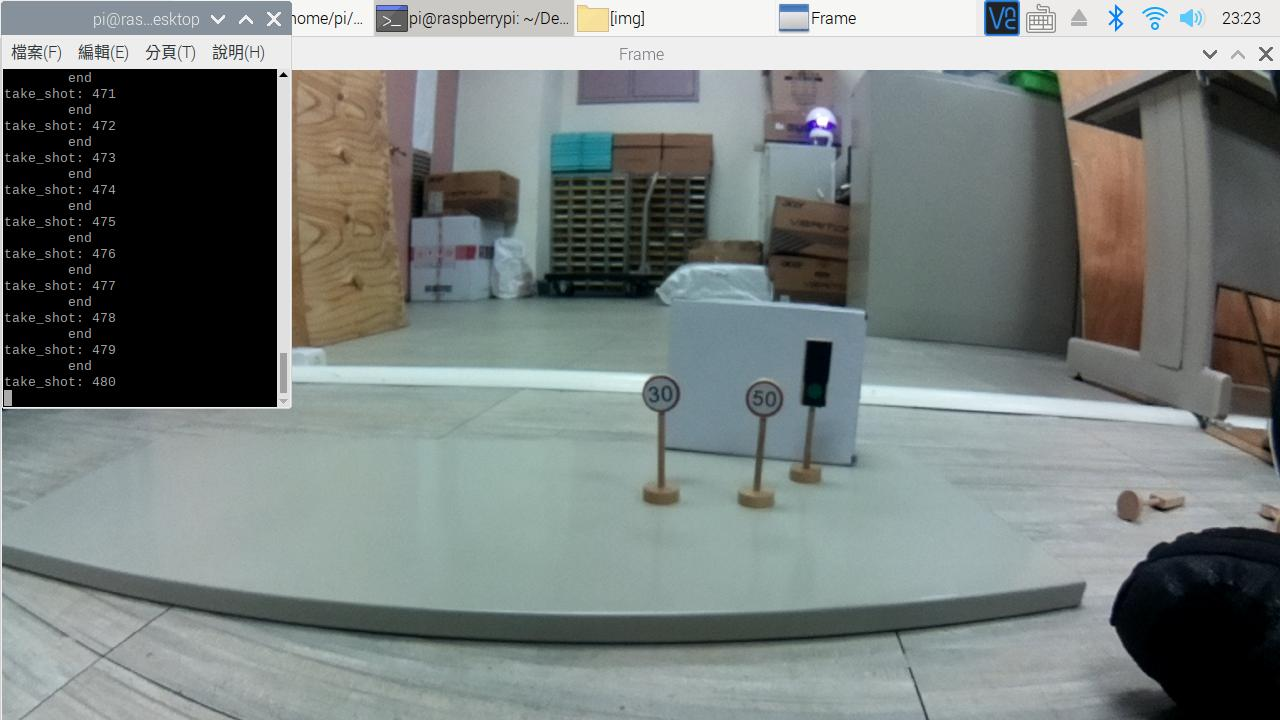Green: (796, 329, 840, 414)
Speed30: (637, 366, 689, 420)
Speed50: (739, 377, 790, 424)
